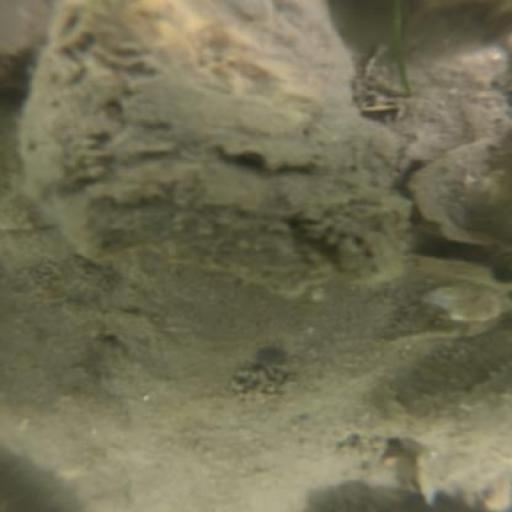Oyster-Closed: (18, 1, 425, 294), (409, 359, 512, 512)
